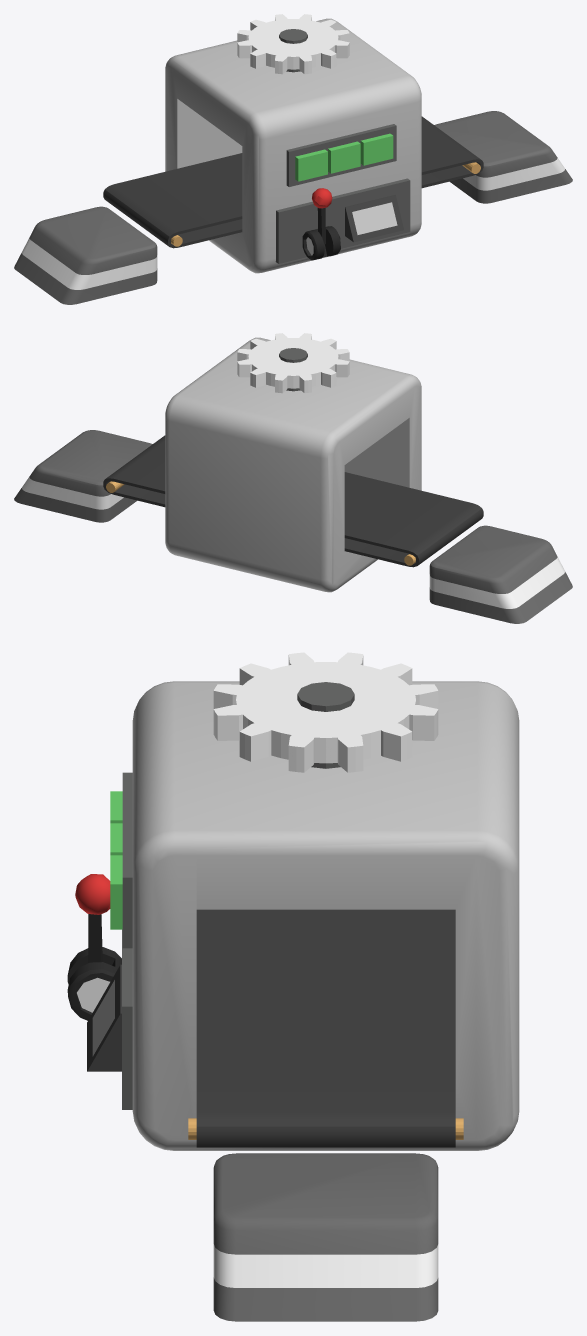
File: makina1 1.fbx
3 renders of one model, top to bottom at view 1: azimuth 30°, elevation 25°; view 2: azimuth 150°, elevation 25°; view 3: azimuth 270°, elevation 25°, orthographic. The views are drawn at different scales.
Visible parts, largest first — view 1: govde.001, stack.013, palet.009, cark.001, govde.011, kolalt, kol.001; view 2: govde.001, stack.013, palet.009, cark.001; view 3: govde.001, palet.009, stack.013, cark.001, kolalt, kol.001, govde.011.
Part boxes in pixels (x1=…): govde.001: x1=165, y1=18, x2=421, y2=273; stack.013: x1=14, y1=111, x2=572, y2=304; palet.009: x1=103, y1=116, x2=483, y2=248; cark.001: x1=237, y1=14, x2=349, y2=74; govde.011: x1=295, y1=133, x2=393, y2=181; kolalt: x1=302, y1=226, x2=340, y2=260; kol.001: x1=312, y1=188, x2=332, y2=244; govde.001: x1=165, y1=337, x2=421, y2=592; stack.013: x1=14, y1=430, x2=572, y2=623; palet.009: x1=103, y1=435, x2=483, y2=567; cark.001: x1=237, y1=333, x2=349, y2=393; govde.001: x1=87, y1=681, x2=519, y2=1150; palet.009: x1=188, y1=909, x2=463, y2=1147; stack.013: x1=213, y1=1153, x2=438, y2=1321; cark.001: x1=213, y1=652, x2=438, y2=772; kolalt: x1=67, y1=947, x2=121, y2=1020; kol.001: x1=75, y1=874, x2=110, y2=962; govde.011: x1=110, y1=791, x2=122, y2=929.
Bounding box in the file's own units: 611 × 218 × 234.
Materials: 2 (1 with a texture image).
